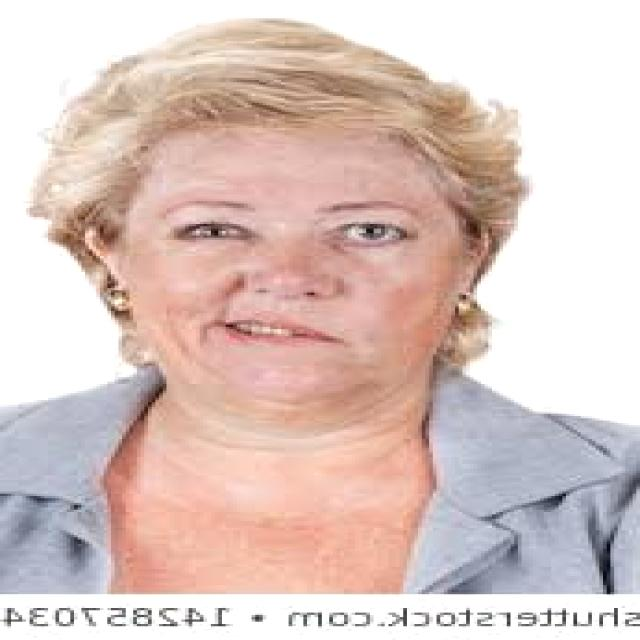stroke_face: (42, 20, 534, 432)
